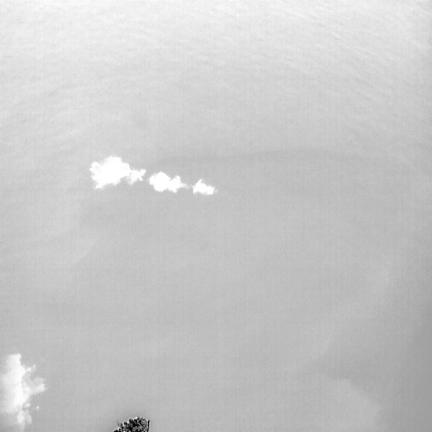flukeprints: (90, 156, 144, 188), (148, 172, 186, 192), (193, 179, 214, 195)
